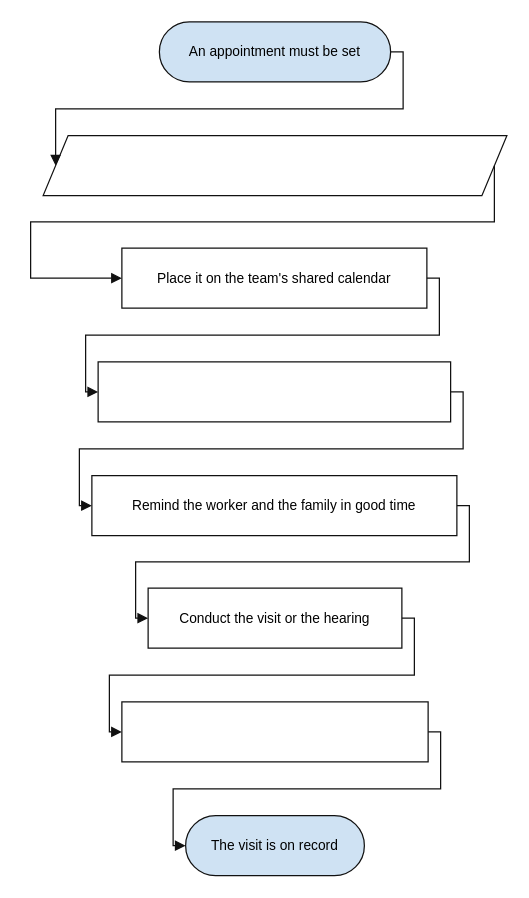
Image size: 529x898. Some labels were removed from this diagram. Each missing label, with the centre of its shape:
Choose the date, time and place: pixel 274 165
Work out when to remind the people involved: pixel 274 391
Write what happened and what follows: pixel 274 731
